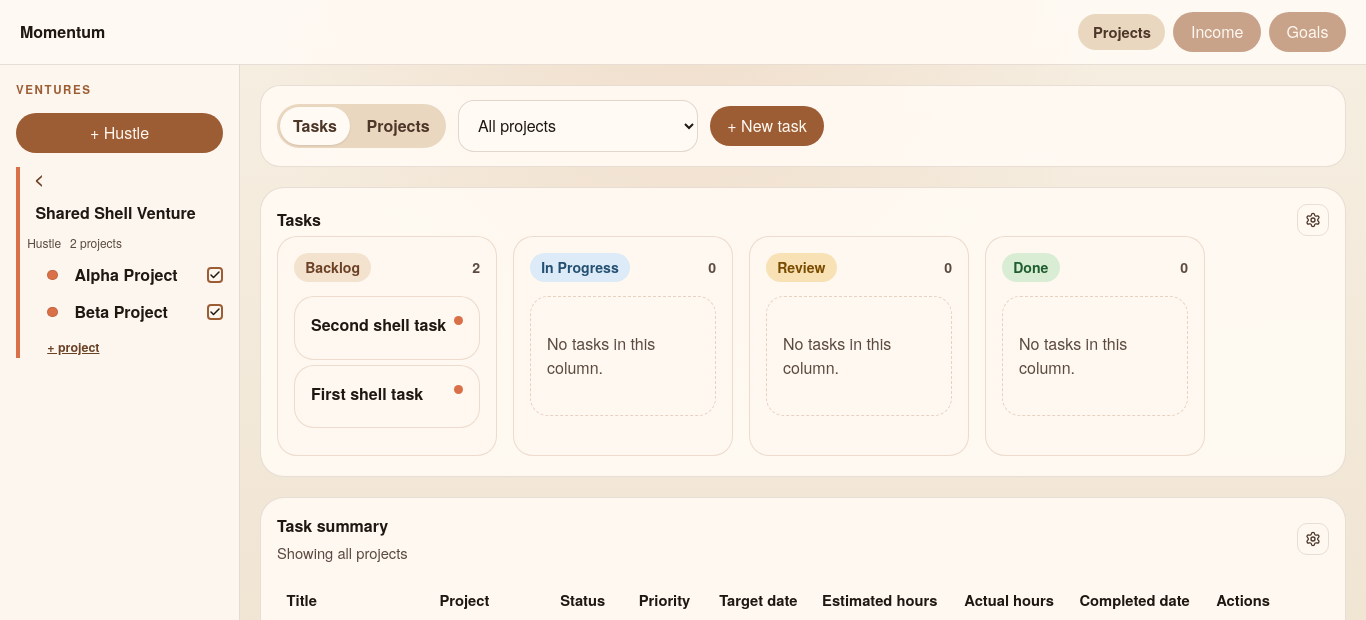
it: FR-6 shared kanban shell integration coverage › preserves kanban drop test hooks for both boards through the shared board wrapper
Click the tab "Projects".
click(398, 126)  # box 354,107 -> 442,145
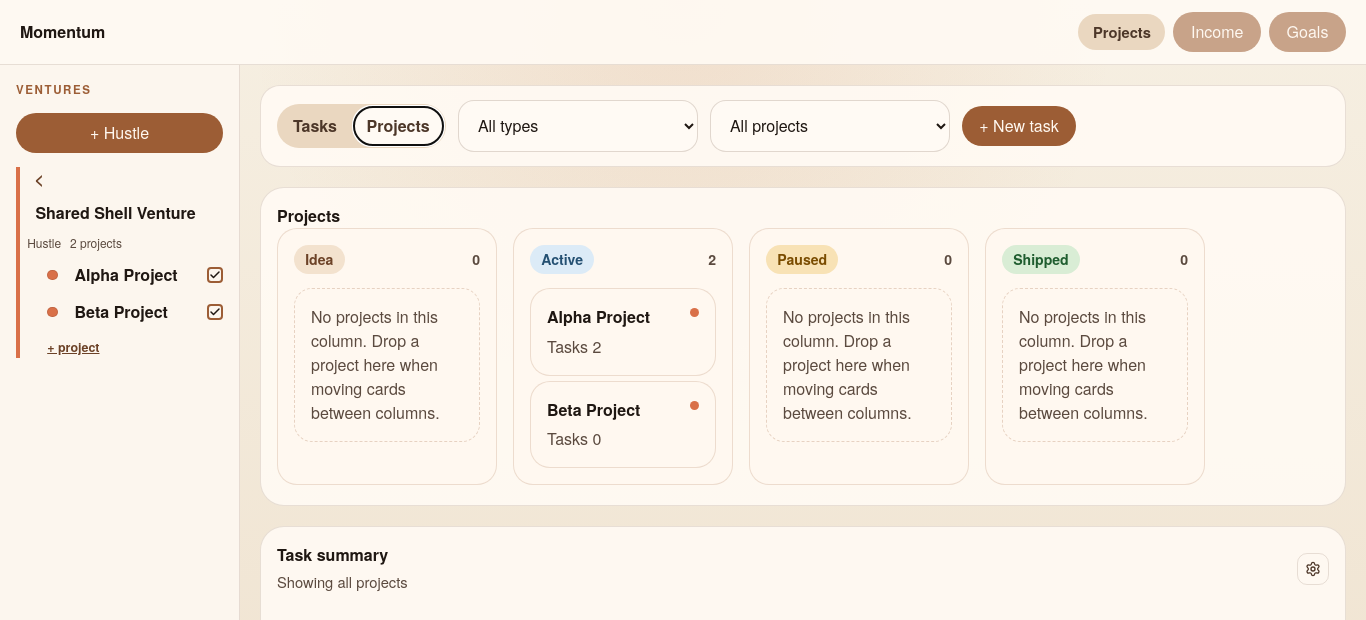
Now the button with test id "kanban-project-title" below "Active" is shown, box 547,305 -> 650,329
Now the button with test id "kanban-project-title" below "Tasks 2" is shown, box 547,398 -> 640,422
